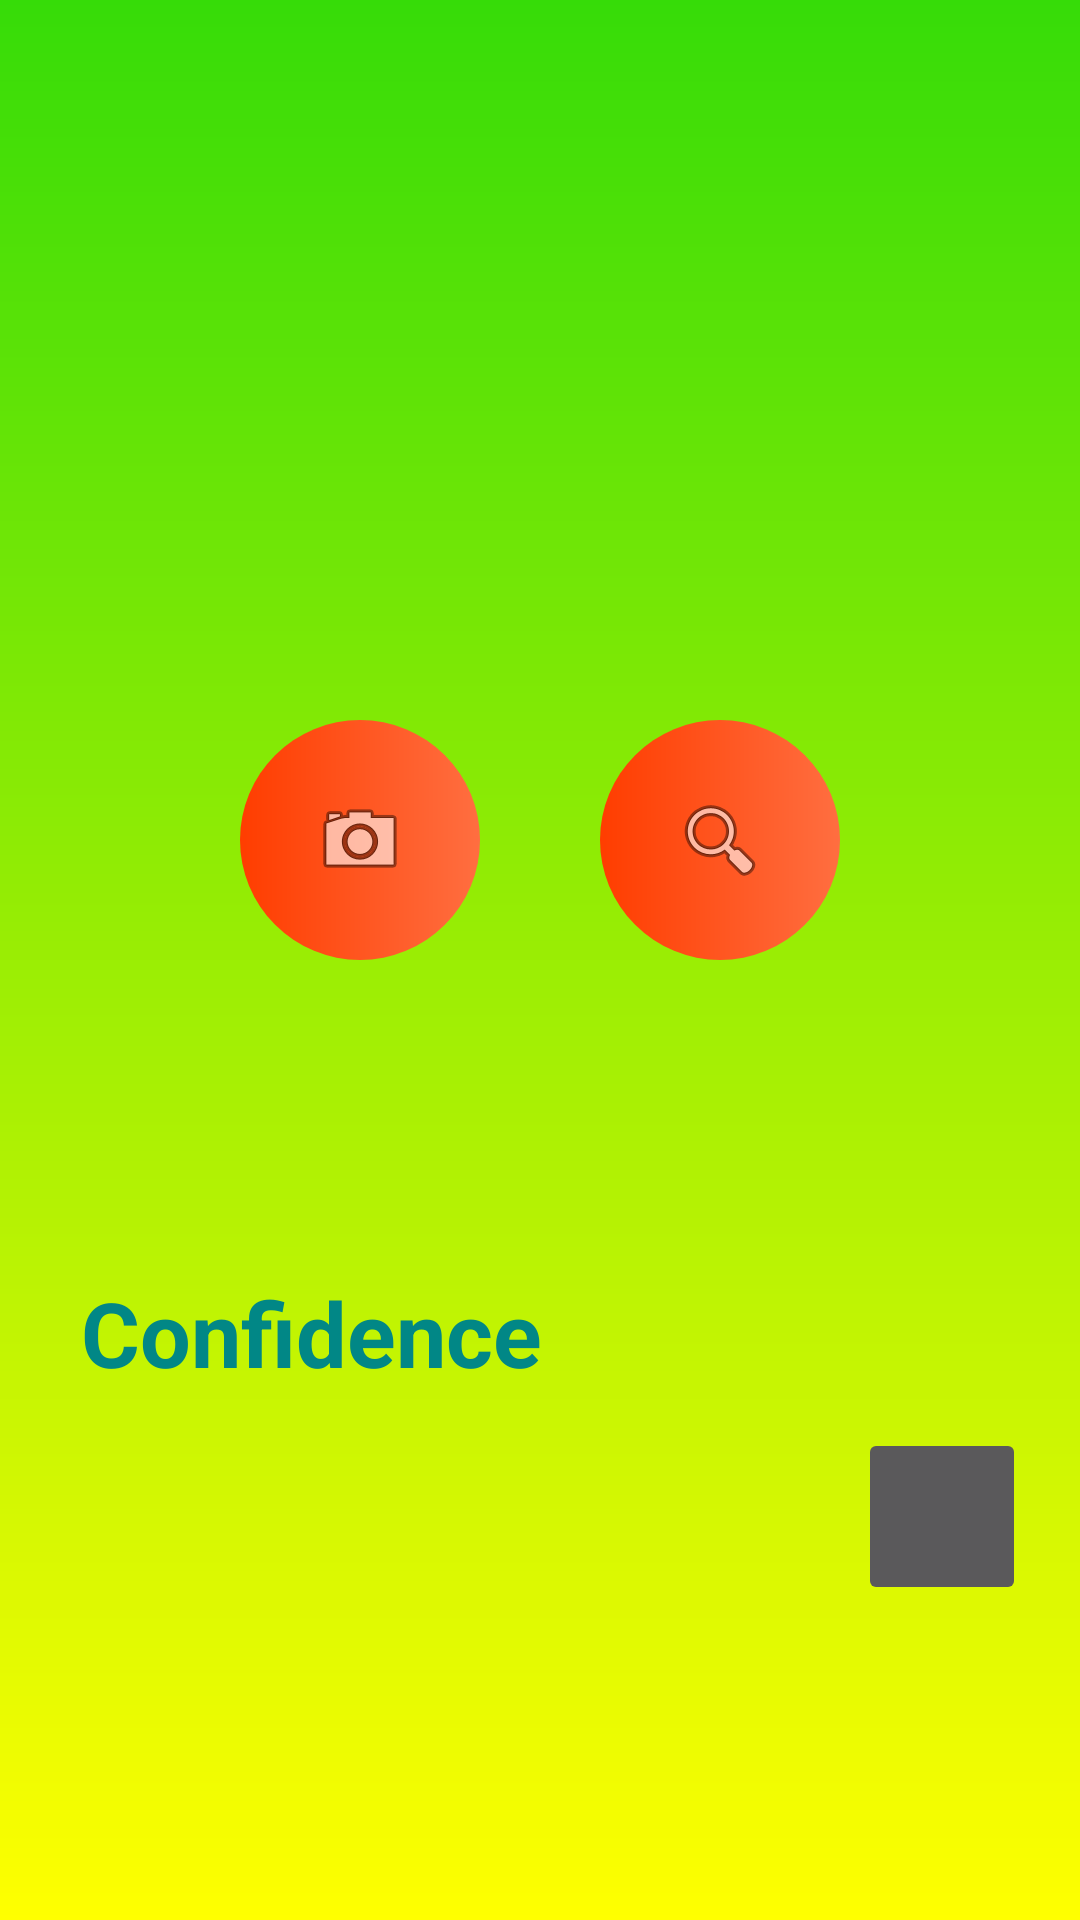

Icons on this 1080px x 1920px Android screen, each with the point to tap as [x,y]:
camera: [360,840]
search: [720,840]
